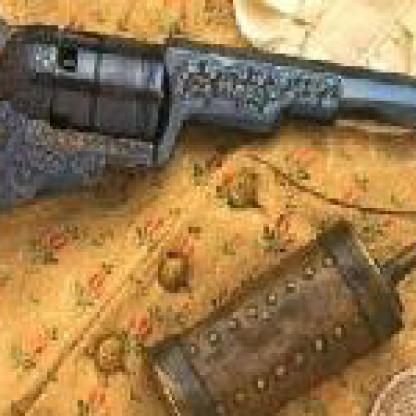gun: (0, 0, 413, 394)
